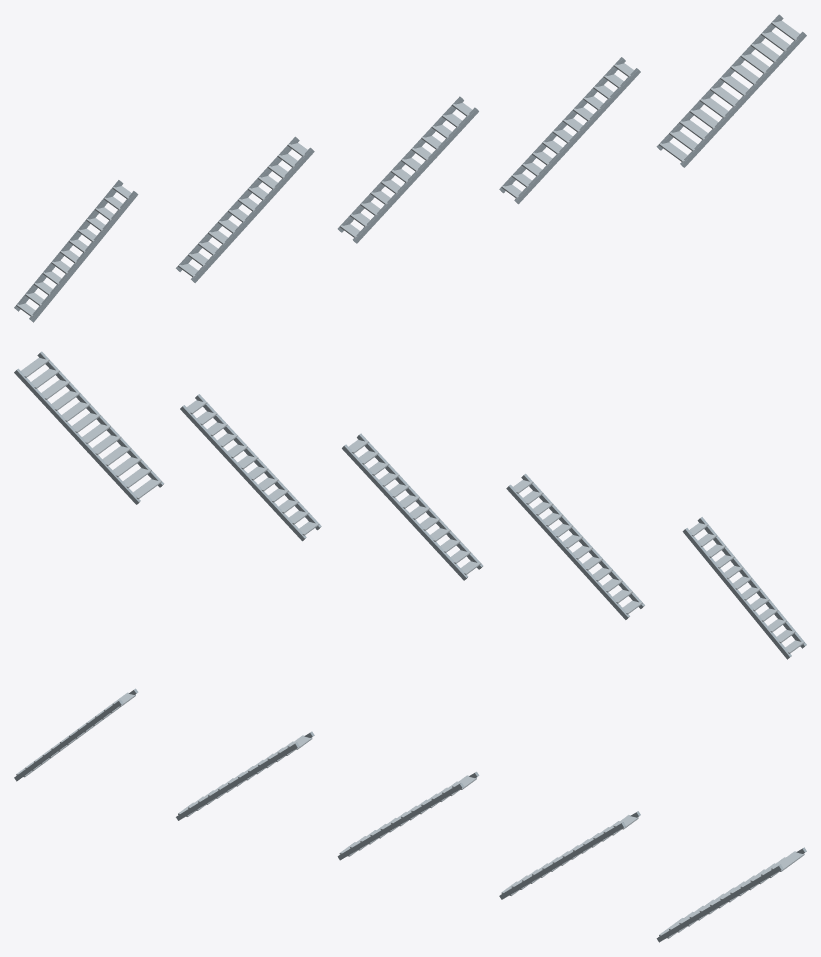
Rendered from Wellmade-All-Scaffold-Stair-Variants.glb.
3 views of the same model, one above another, from view 1: azimuth 30°, elevation 25°; view 2: azimuth 150°, elevation 25°; view 3: azimuth 330°, elevation 25° (orthographic).
Visible parts, largest first — view 1: WSKSC600 left inclined stringer - illustrative, WCSW2 left inclined stringer - illustrative, WCSW3 left inclined stringer - illustrative, WSKSC900 left inclined stringer - illustrative, WCSW1 left inclined stringer - illustrative, WSKSC900 right inclined stringer - illustrative, WCSW3 right inclined stringer - illustrative, WSKSC600 right inclined stringer - illustrative, WCSW2 right inclined stringer - illustrative, WCSW1 right inclined stringer - illustrative; view 2: WSKSC600 right inclined stringer - illustrative, WCSW2 right inclined stringer - illustrative, WCSW3 right inclined stringer - illustrative, WSKSC900 right inclined stringer - illustrative, WCSW1 right inclined stringer - illustrative, WSKSC900 left inclined stringer - illustrative, WCSW3 left inclined stringer - illustrative, WSKSC600 left inclined stringer - illustrative, WCSW2 left inclined stringer - illustrative, WCSW1 left inclined stringer - illustrative; view 3: WCSW3 left inclined stringer - illustrative, WSKSC900 left inclined stringer - illustrative, WSKSC600 left inclined stringer - illustrative, WCSW2 left inclined stringer - illustrative, WCSW1 left inclined stringer - illustrative.
Boxes of the visible parts, box(x1,y1,x2,y2) form: WSKSC600 left inclined stringer - illustrative: box(514, 68, 640, 204); WCSW2 left inclined stringer - illustrative: box(191, 147, 314, 282); WCSW3 left inclined stringer - illustrative: box(352, 107, 478, 243); WSKSC900 left inclined stringer - illustrative: box(680, 31, 806, 167); WCSW1 left inclined stringer - illustrative: box(29, 191, 138, 322); WSKSC900 right inclined stringer - illustrative: box(656, 14, 783, 150); WCSW3 right inclined stringer - illustrative: box(337, 96, 463, 232); WSKSC600 right inclined stringer - illustrative: box(499, 57, 625, 193); WCSW2 right inclined stringer - illustrative: box(176, 136, 299, 271); WCSW1 right inclined stringer - illustrative: box(14, 180, 123, 311); WSKSC600 right inclined stringer - illustrative: box(180, 405, 306, 541); WCSW2 right inclined stringer - illustrative: box(506, 484, 629, 619); WCSW3 right inclined stringer - illustrative: box(342, 444, 468, 580); WSKSC900 right inclined stringer - illustrative: box(14, 368, 140, 504); WCSW1 right inclined stringer - illustrative: box(682, 528, 791, 659); WSKSC900 left inclined stringer - illustrative: box(37, 351, 164, 487); WCSW3 left inclined stringer - illustrative: box(357, 433, 483, 569); WSKSC600 left inclined stringer - illustrative: box(195, 394, 321, 530); WCSW2 left inclined stringer - illustrative: box(521, 473, 644, 608); WCSW1 left inclined stringer - illustrative: box(697, 517, 806, 648); WCSW3 left inclined stringer - illustrative: box(337, 782, 464, 860); WSKSC900 left inclined stringer - illustrative: box(656, 864, 783, 942); WSKSC600 left inclined stringer - illustrative: box(499, 822, 625, 899); WCSW2 left inclined stringer - illustrative: box(176, 742, 299, 820); WCSW1 left inclined stringer - illustrative: box(14, 699, 123, 781).
Bounding box in the file's own units: 15754 × 2065 × 900.
